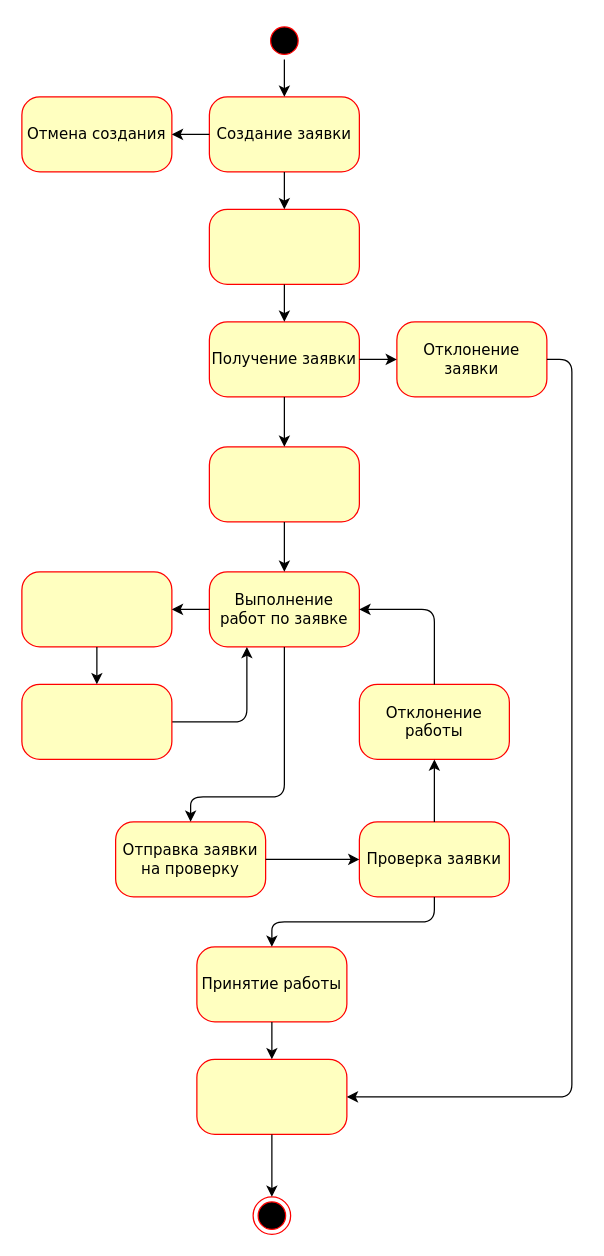
This 604x1256 diagram has some shape labels left out. The shapes that lost their labels are listed below. From the top down, each one's centre as x and y in pixels, then its label:
At point (283, 246): "Отправка на исполнение".
At point (283, 484): "Взятие заявки в работу".
At point (96, 609): "Приостановка работ по заявке".
At point (96, 721): "Возобновление работы по заявке".
At point (271, 1096): "Закрытие заявки".
